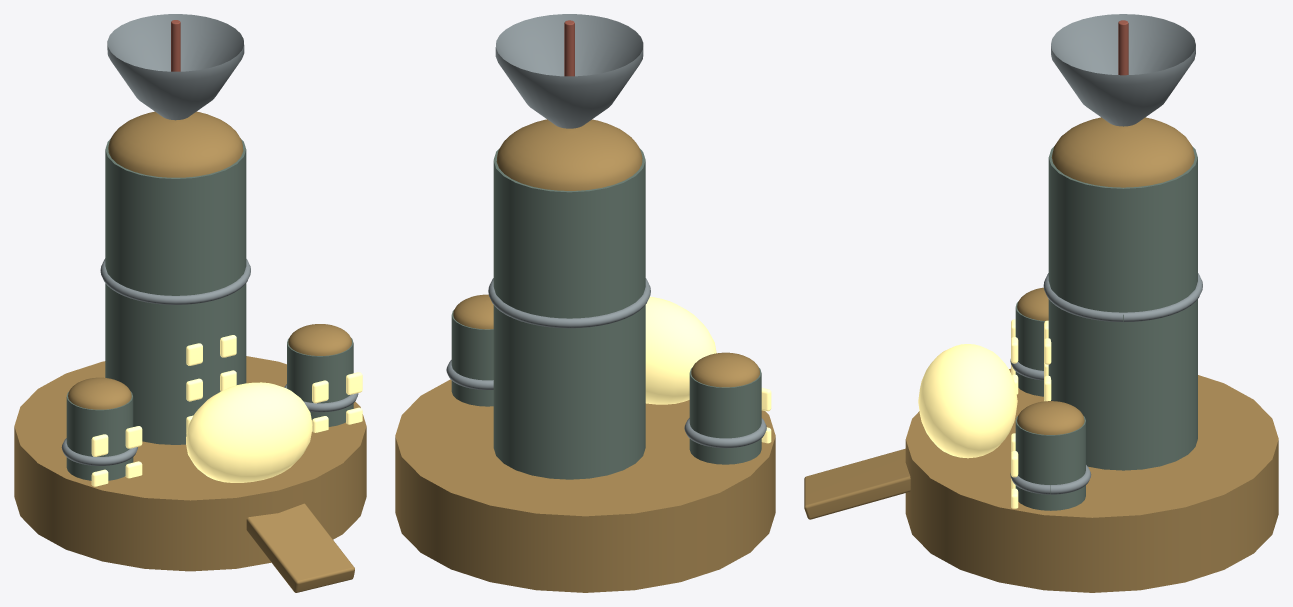
3 views of the same model, side by side, from view 1: azimuth 30°, elevation 25°; view 2: azimuth 150°, elevation 25°; view 3: azimuth 270°, elevation 25° (orthographic). The views are drawn at different scales.
Parts seen in each view (by area): view 1: Foundation drum, Cylindrical tower, Open collector bowl, Transfer energy core, Tower crown, Transfer ramp, Cylindrical tower.001, Cylindrical tower.002, Tower crown.001, Tower crown.002, Tower seam, Tower seam.001 (+2 smaller); view 2: Foundation drum, Cylindrical tower, Open collector bowl, Tower crown, Transfer energy core, Cylindrical tower.001, Cylindrical tower.002, Tower crown.001, Tower seam, Tower crown.002, Tower seam.001, Collector central pickup (+1 smaller); view 3: Foundation drum, Cylindrical tower, Open collector bowl, Transfer energy core, Tower crown, Cylindrical tower.002, Transfer ramp, Cylindrical tower.001, Tower crown.002, Tower seam, Tower seam.002, Tower crown.001.
Boxes of the visible parts, x1,y1,x2,y2 form: Foundation drum: (14, 356, 366, 571); Cylindrical tower: (105, 138, 246, 444); Open collector bowl: (107, 14, 244, 120); Transfer energy core: (186, 382, 312, 482); Tower crown: (108, 111, 243, 177); Transfer ramp: (246, 503, 354, 592); Cylindrical tower.001: (66, 391, 133, 480); Cylindrical tower.002: (287, 338, 353, 426); Tower crown.001: (68, 377, 131, 409); Tower crown.002: (288, 324, 351, 355); Tower seam: (100, 258, 250, 304); Tower seam.001: (61, 438, 137, 465); Foundation drum: (395, 379, 775, 592); Cylindrical tower: (493, 148, 645, 479); Open collector bowl: (495, 14, 643, 128); Tower crown: (496, 119, 642, 190); Transfer energy core: (645, 296, 716, 404); Cylindrical tower.001: (689, 367, 761, 464); Cylindrical tower.002: (451, 310, 493, 406); Tower crown.001: (691, 352, 759, 387); Tower seam: (488, 278, 650, 328); Tower crown.002: (453, 294, 493, 329); Tower seam.001: (684, 418, 766, 448); Collector central pickup: (564, 20, 574, 76); Foundation drum: (905, 368, 1278, 592); Cylindrical tower: (1048, 147, 1197, 470); Open collector bowl: (1051, 14, 1195, 126); Transfer energy core: (918, 344, 1017, 458); Tower crown: (1051, 117, 1194, 187); Cylindrical tower.002: (1015, 416, 1085, 510); Transfer ramp: (804, 448, 910, 519); Cylindrical tower.001: (1015, 302, 1044, 396); Tower crown.002: (1017, 401, 1084, 434); Tower seam: (1043, 273, 1202, 322); Tower seam.002: (1010, 465, 1091, 494); Tower crown.001: (1017, 287, 1048, 320).
Bounding box in the file's own units: 1.8 × 2.62 × 2.29.
